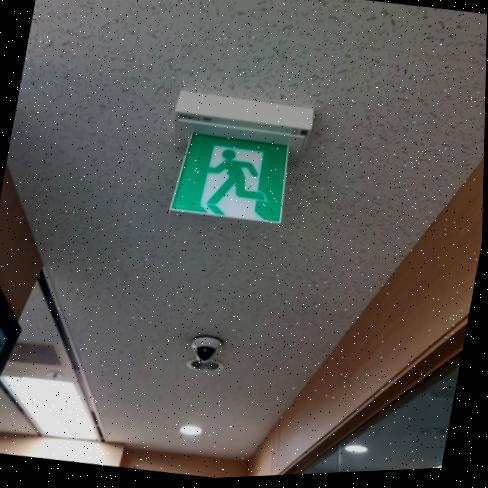emergency_exit: (167, 88, 314, 226), (168, 130, 291, 225)
